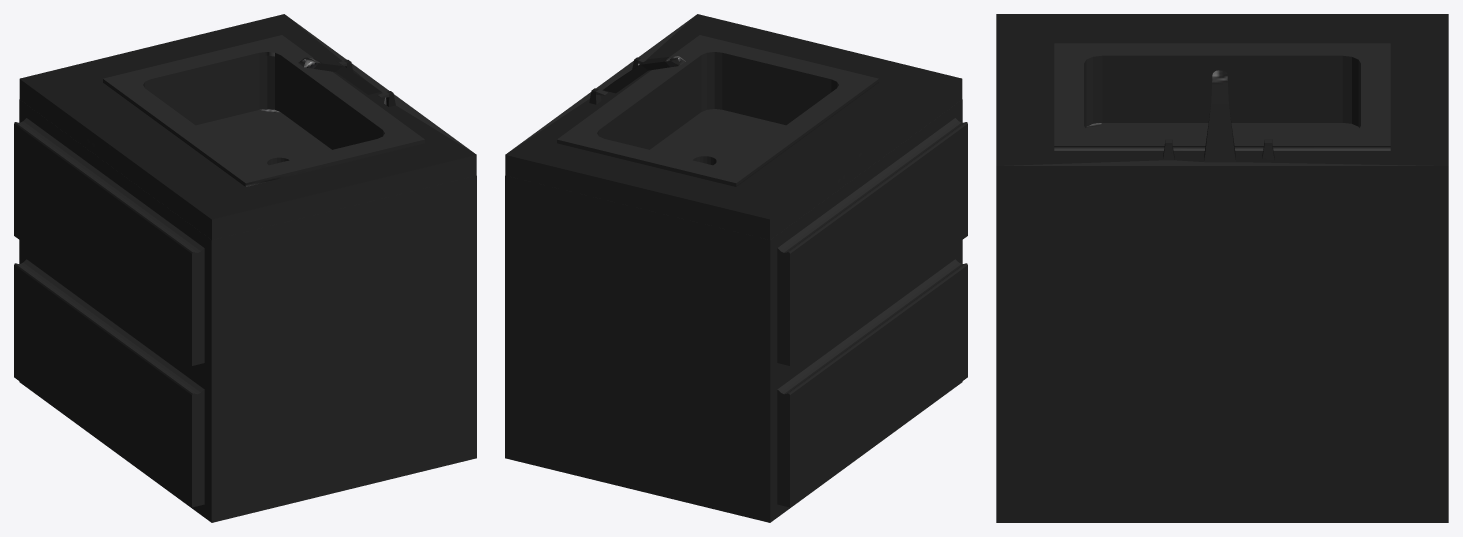
File: Sink.fbx
3 renders of one model, left to right at view 1: azimuth 30°, elevation 25°; view 2: azimuth 150°, elevation 25°; view 3: azimuth 270°, elevation 25°, orthographic. The views are drawn at different scales.
Visible parts, largest first — view 1: Cube.003; view 2: Cube.003; view 3: Cube.003.
Part boxes in pixels (x1=…): Cube.003: x1=14, y1=14, x2=476, y2=522; Cube.003: x1=505, y1=14, x2=967, y2=522; Cube.003: x1=996, y1=14, x2=1448, y2=522.
Bounding box in the file's own units: 133 × 159 × 160.
